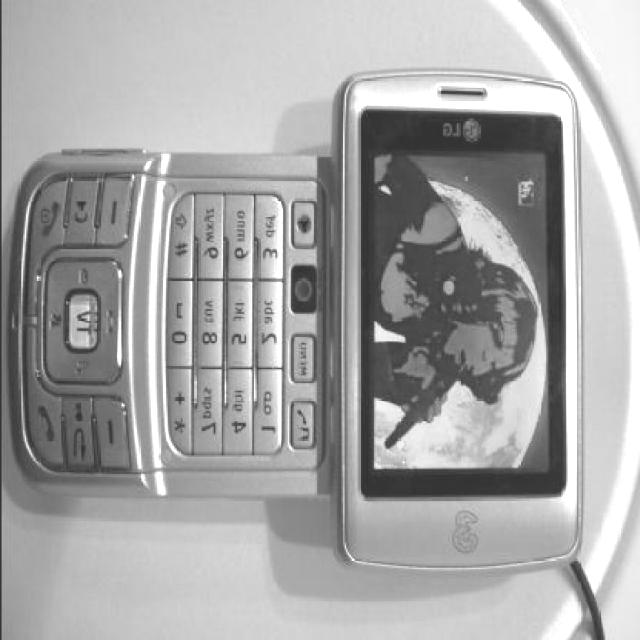fake: (34, 54, 597, 602)
